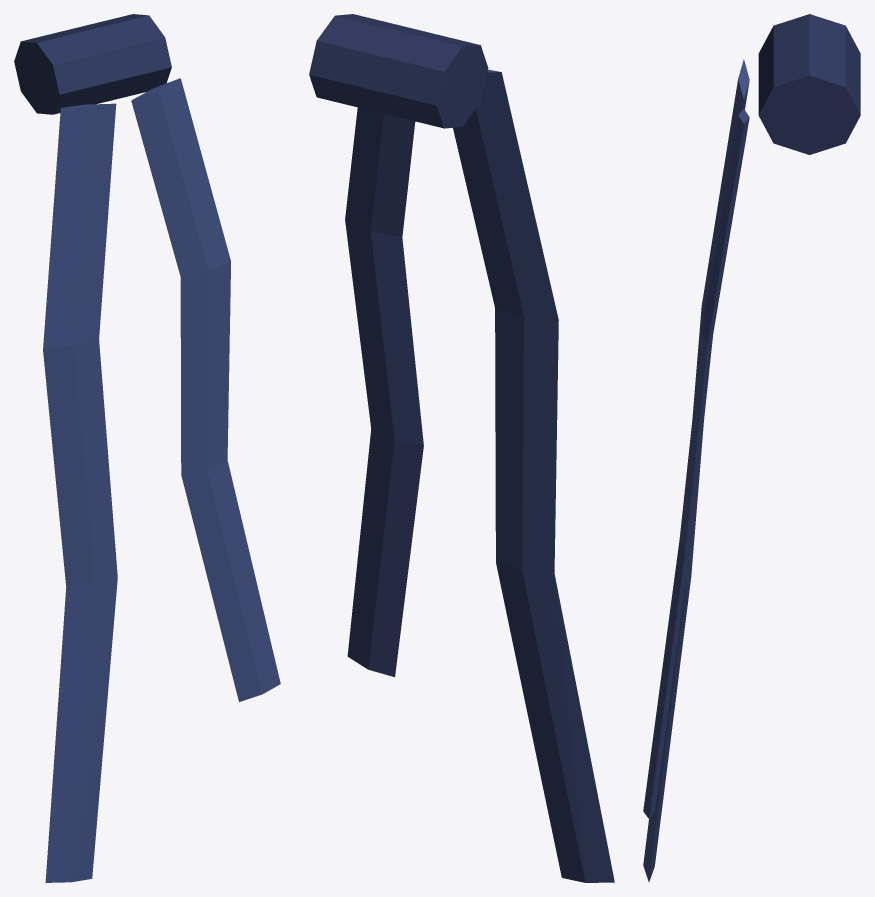
Rendered from oath-ribbon.glb.
The picture shows the model from 3 angles, left to right: view 1: azimuth 30°, elevation 25°; view 2: azimuth 150°, elevation 25°; view 3: azimuth 270°, elevation 25°; orthographic projection. The views are drawn at different scales.
Parts seen in each view (by area): view 1: oath-ribbon; view 2: oath-ribbon; view 3: oath-ribbon.
Part boxes in pixels (bbox=[...]): oath-ribbon: bbox=[14, 14, 280, 882]; oath-ribbon: bbox=[309, 14, 614, 882]; oath-ribbon: bbox=[643, 14, 860, 882].
Size of the model in its own units: 0.2094 by 0.6631 by 0.149.
